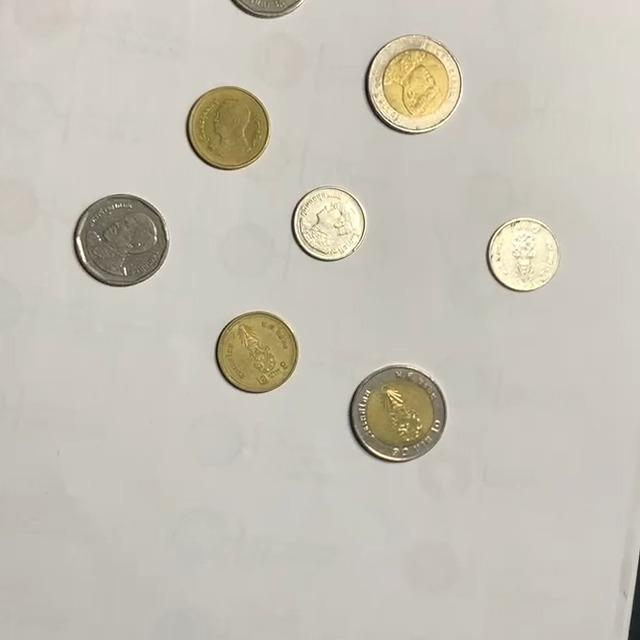1-baht: (487, 217, 562, 293), (292, 187, 367, 262)
10-baht: (367, 33, 465, 132), (350, 365, 448, 462)
2-baht: (187, 86, 271, 171), (216, 311, 299, 394)
5-baht: (74, 194, 171, 287), (221, 0, 315, 19)
